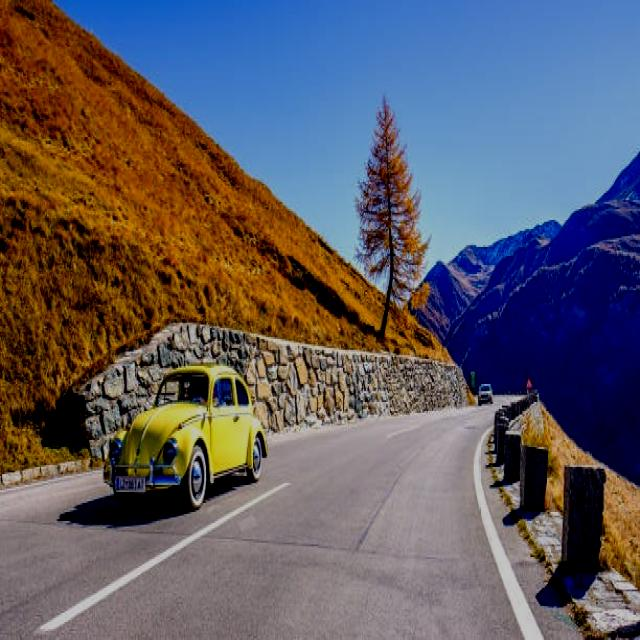car: (110, 361, 269, 501)
